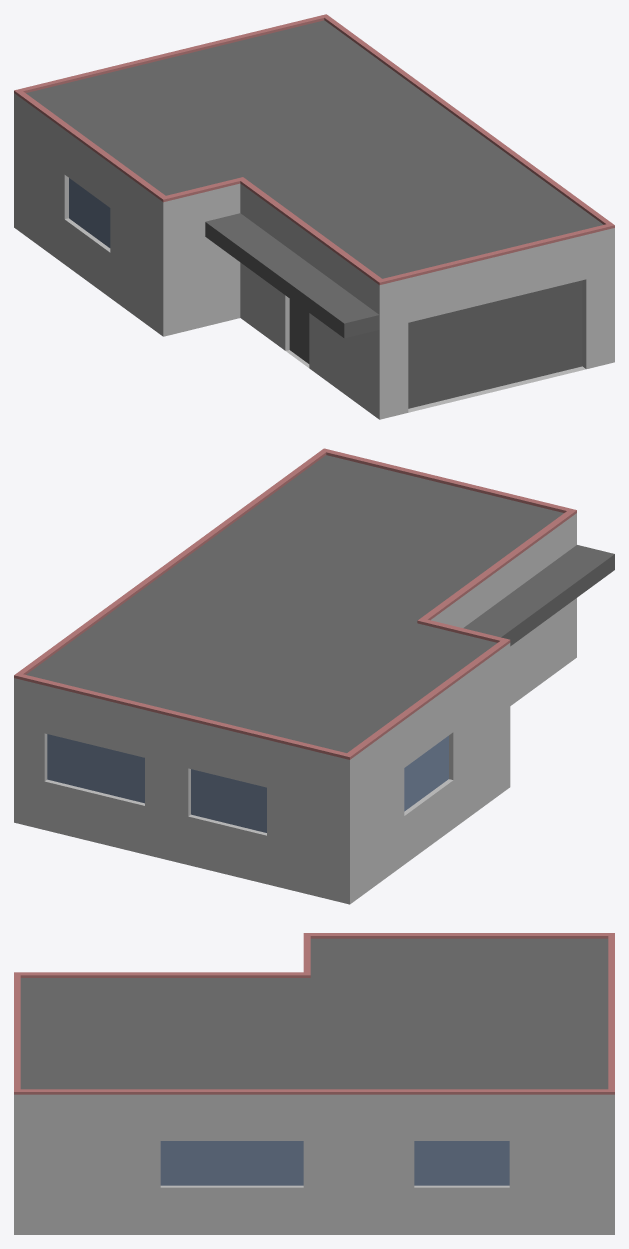
Rendered from GenericBuilding.fbx.
3 renders of one model, top to bottom at view 1: azimuth 30°, elevation 25°; view 2: azimuth 150°, elevation 25°; view 3: azimuth 270°, elevation 25°, orthographic. The views are drawn at different scales.
Visible parts, largest first — view 1: pCube262; view 2: pCube262; view 3: pCube262.
Part boxes in pixels (left/top/right/bottom): pCube262: left=14, top=14, right=614, bottom=419; pCube262: left=14, top=448, right=614, bottom=904; pCube262: left=14, top=933, right=614, bottom=1234.
Bounding box in the file's own units: 5.69 × 2.39 × 9.1.
